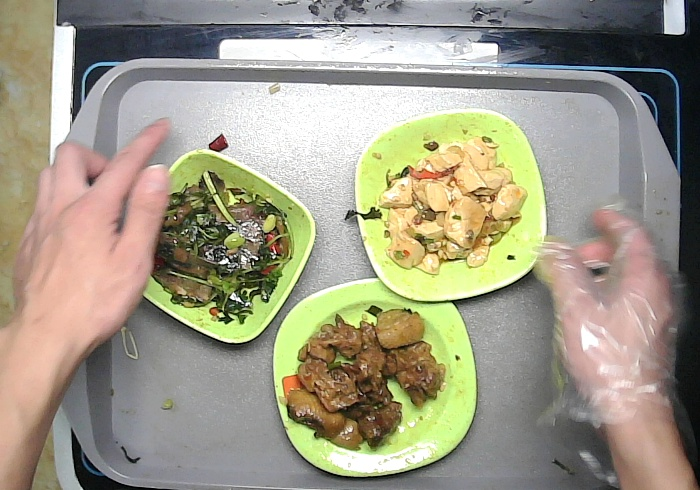SHKJ-Lv_Se_Cai_Die: (352, 107, 549, 302)
SHKJ-Lv_Se_Si_Fang_Cai_Die: (272, 276, 481, 478)
SHKJ-Lv_Se_Xiao_Fang_Die: (142, 147, 318, 345)
